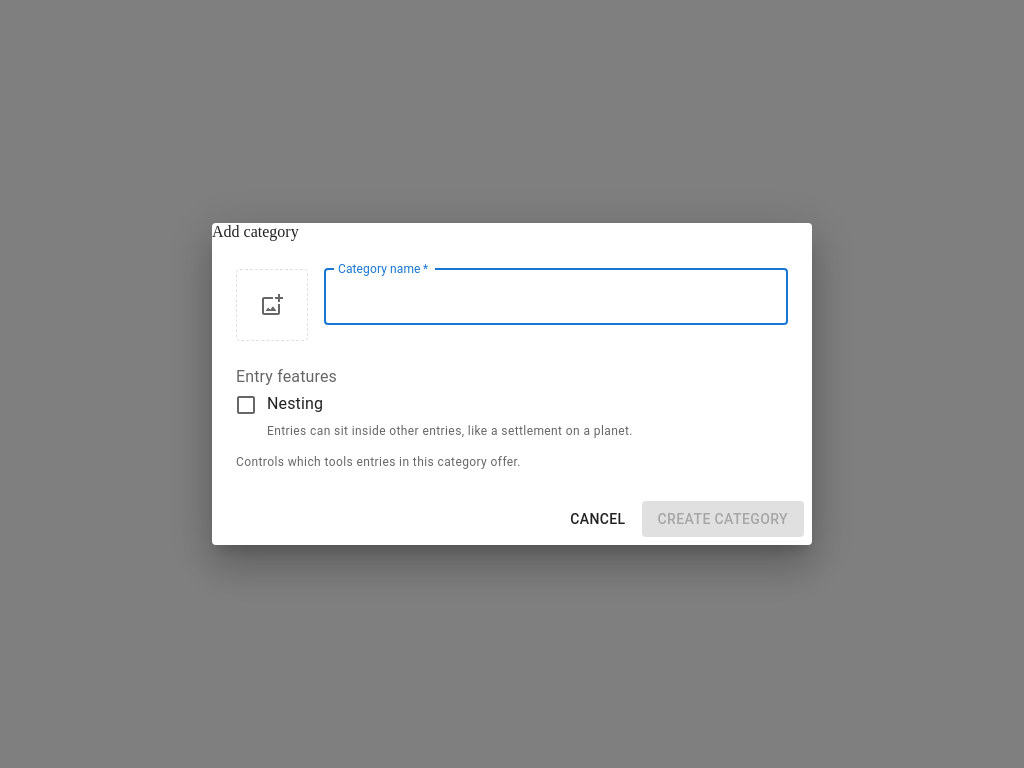
Test case: WorldCategoryEditor › keeps the form open with a visible save error
Type "Creatures" into the field labelled "Category name *" at (556, 297), box [324, 269, 788, 325]
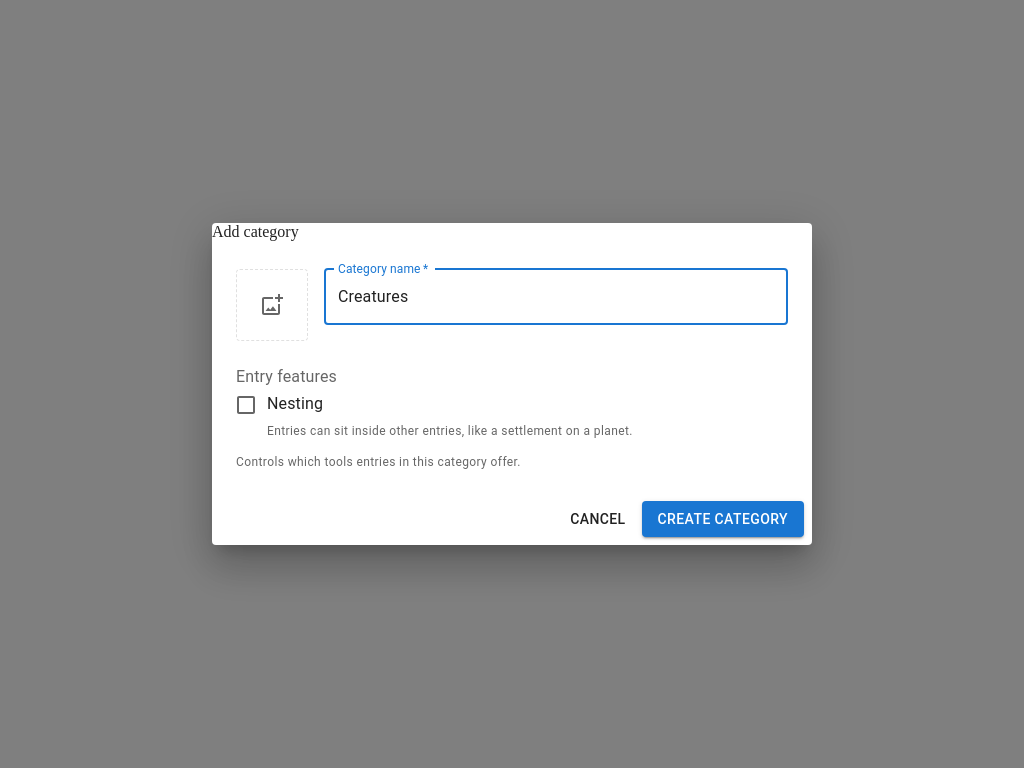
Click the button "Create category" at (723, 519), box [642, 501, 804, 537]
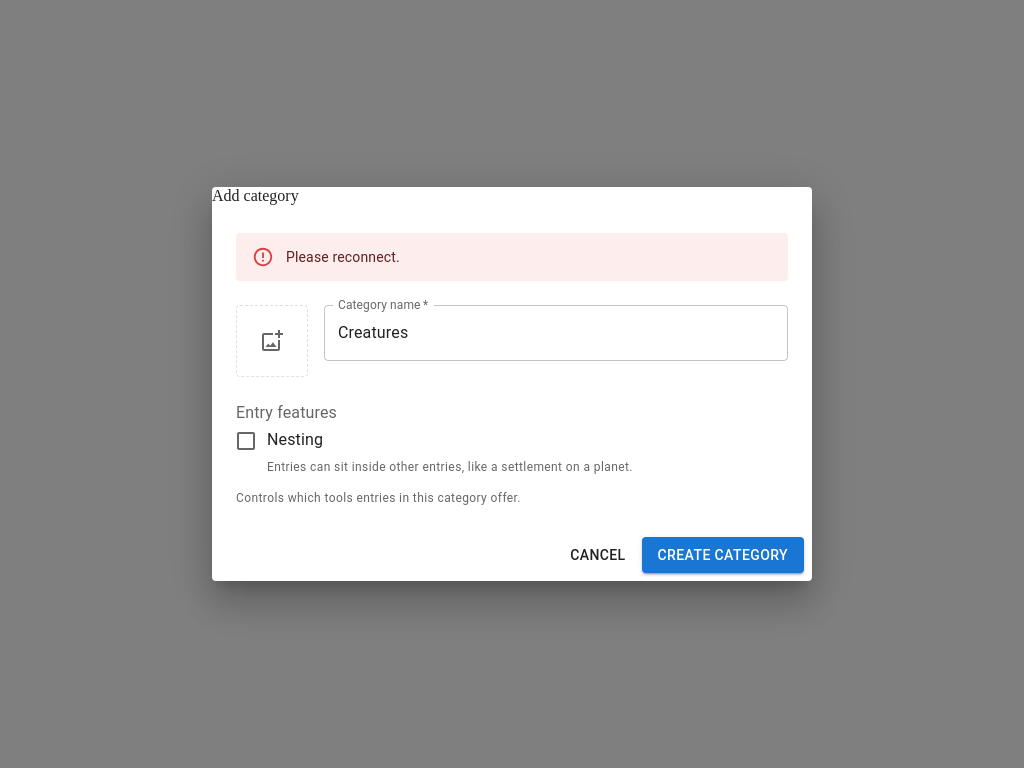
Check: the message reads "Please reconnect.", box [286, 249, 400, 265]
